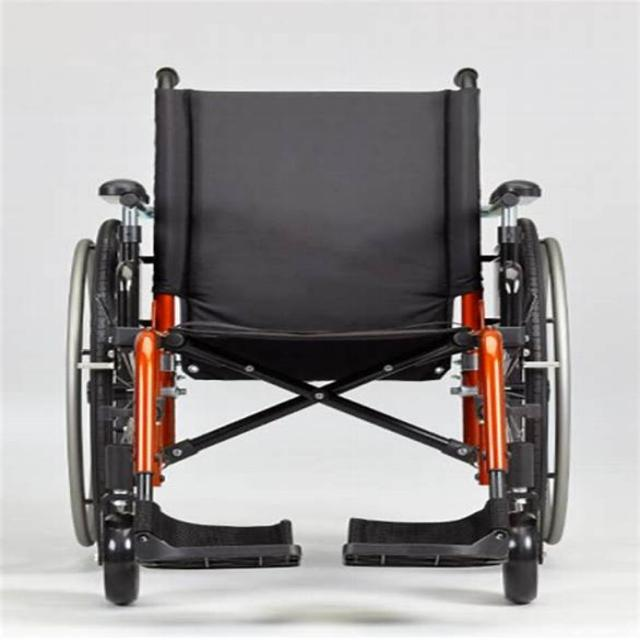wheelchairs: (64, 61, 568, 604)
